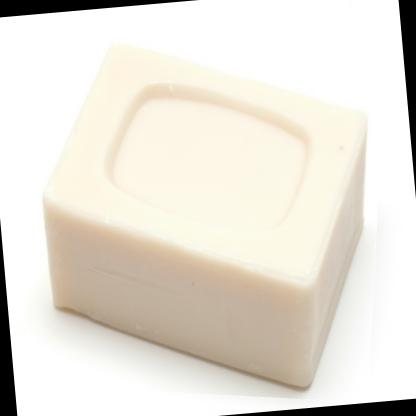soap: (0, 11, 404, 415)
